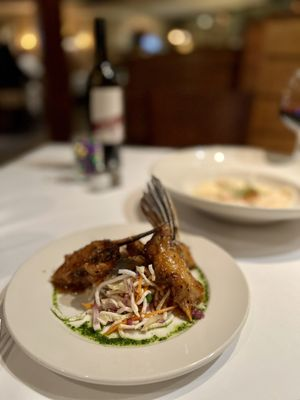sushi: (154, 154, 300, 227)
